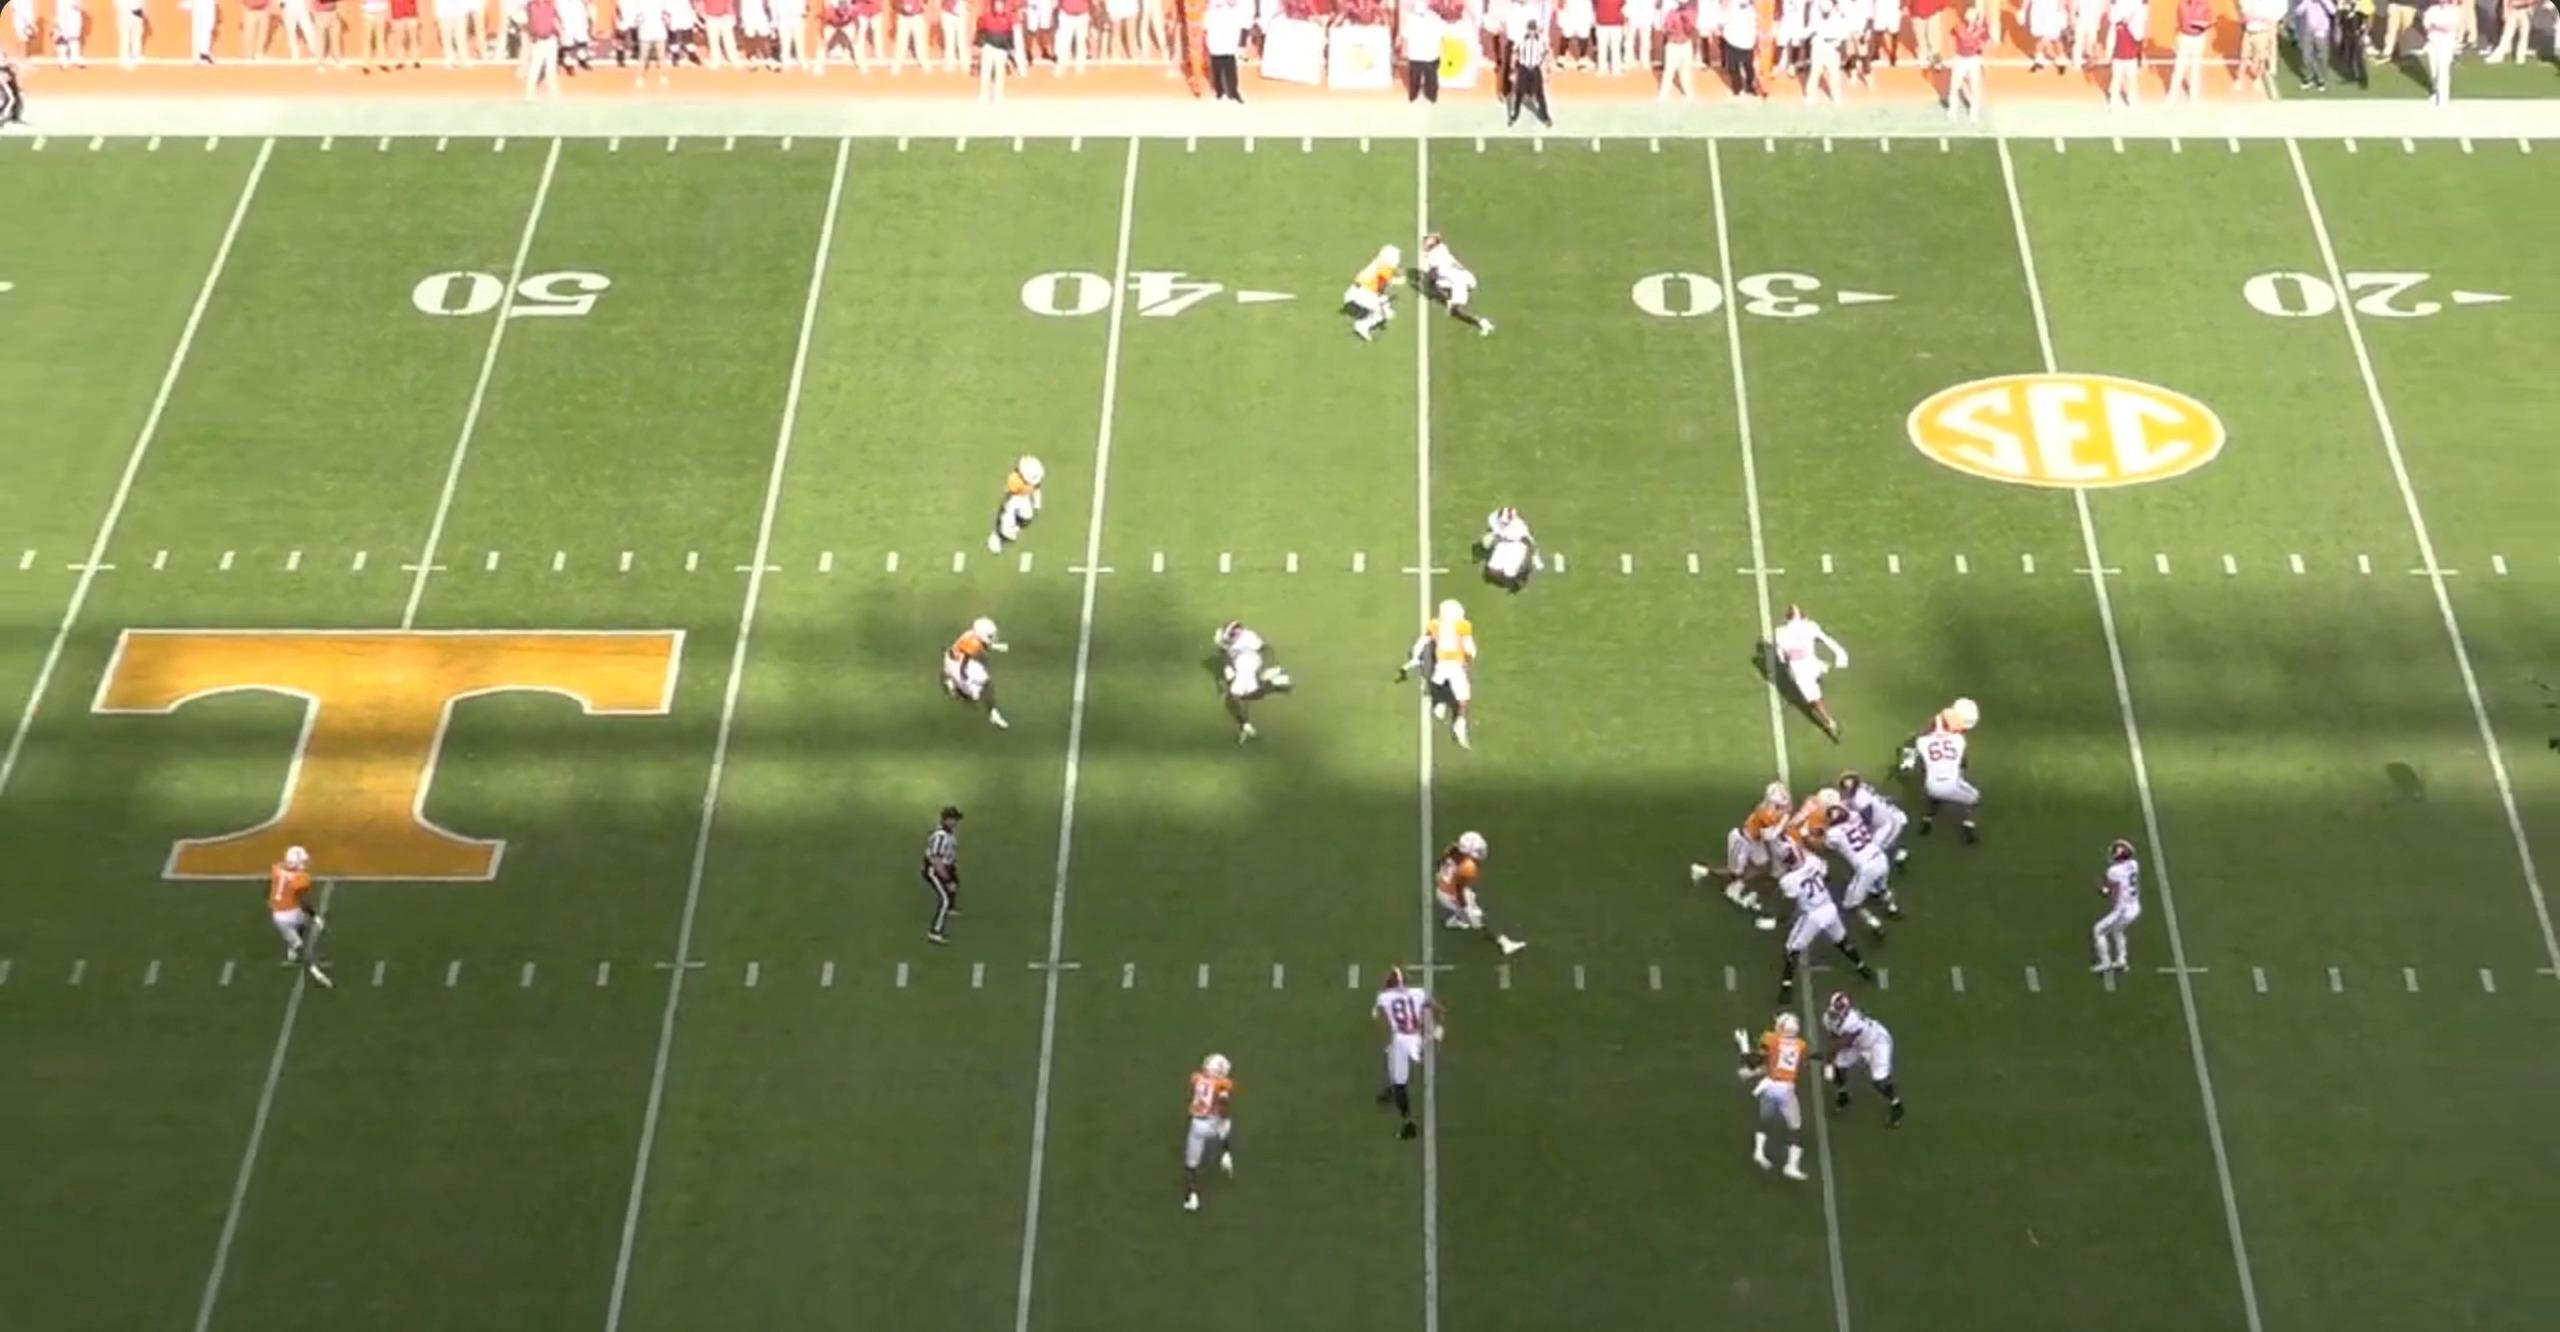defense: (1728, 1009, 1815, 1186), (1689, 779, 1801, 908), (1424, 828, 1524, 966), (1171, 1043, 1246, 1223), (256, 834, 330, 985), (1410, 604, 1479, 749), (944, 612, 1023, 731), (987, 448, 1059, 559), (1340, 239, 1413, 345), (1889, 698, 1979, 767), (1775, 786, 1843, 866)
oline: (1765, 851, 1868, 981), (1816, 982, 1905, 1128), (1806, 811, 1902, 940), (1897, 724, 1980, 848), (1835, 773, 1912, 873)
qb: (2074, 838, 2147, 989)
ref: (924, 803, 982, 954), (1485, 20, 1551, 135), (4, 35, 39, 138)
skill: (1376, 962, 1459, 1138), (1749, 604, 1843, 740), (1215, 618, 1304, 743), (1410, 227, 1495, 343), (1467, 506, 1538, 605)
